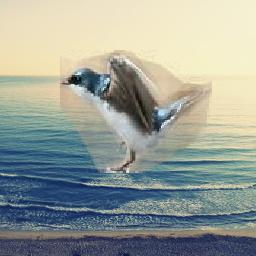Swallow: (60, 51, 212, 174)
